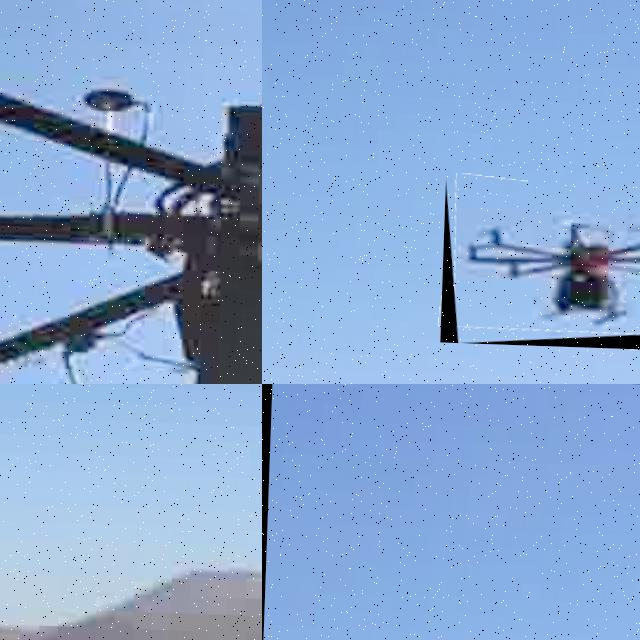drone: (0, 0, 262, 384), (439, 178, 640, 351)
